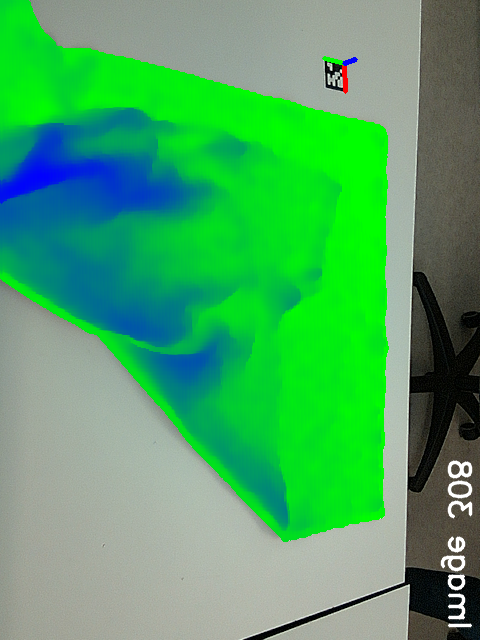V: (301, 155, 364, 221)
